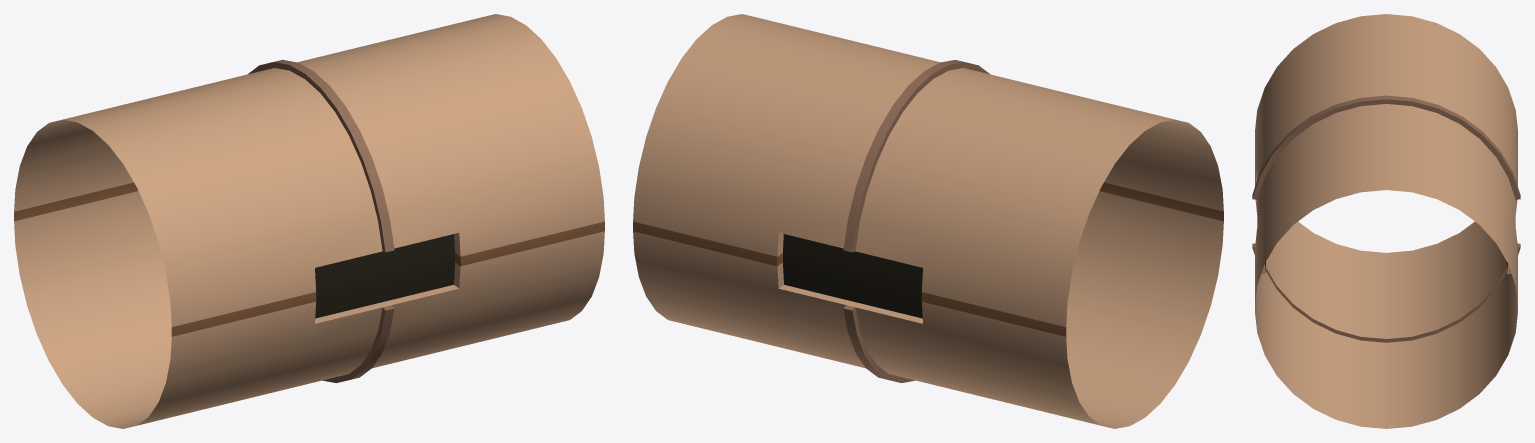
File: quaternius-ultimate-space-pack-connector-transformed.glb
3 renders of one model, left to right at view 1: azimuth 30°, elevation 25°; view 2: azimuth 150°, elevation 25°; view 3: azimuth 270°, elevation 25°, orthographic. The views are drawn at different scales.
Visible parts, largest first — view 1: Connector; view 2: Connector; view 3: Connector.
Boxes of the visible parts, x1,y1,x2,y2 form: Connector: (14,14,604,428); Connector: (633,14,1223,428); Connector: (1252,14,1520,428).
Size of the model in its own units: 3.37 by 2.21 by 2.17.
1 material, 1 textured.
